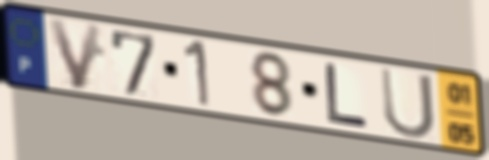1: (182, 39, 212, 110)
7: (107, 28, 158, 98)
8: (246, 50, 295, 119)
L: (321, 60, 372, 130)
U: (377, 65, 438, 142)
V: (44, 16, 106, 93)
